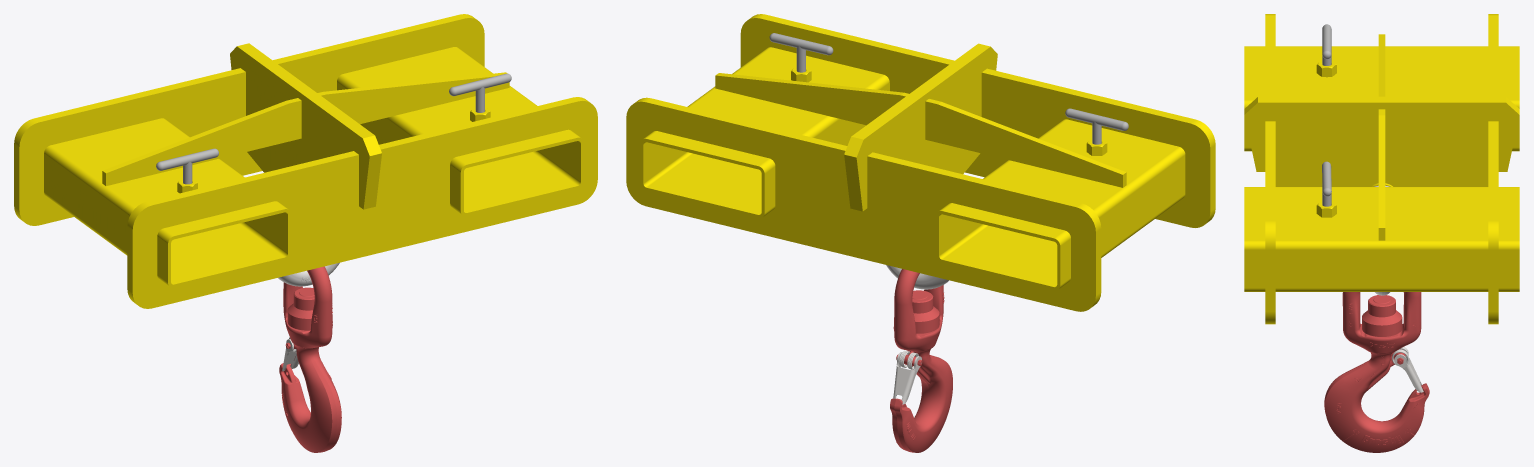
Rendered from dsp_mnt_10_t.glb.
3 renders of one model, left to right at view 1: azimuth 30°, elevation 25°; view 2: azimuth 150°, elevation 25°; view 3: azimuth 270°, elevation 25°, orthographic. The views are drawn at different scales.
Parts seen in each view (by area): view 1: Pieza15^Ensamblaje2-3, ptr 6x4 x 0.25-1, Pieza15^Ensamblaje2-2, ptr 6x4 x 0.25-2, Pieza16^Ensamblaje2-2, CROSBY_L-3322B_11T_1028645.sldasm-Part-1-1, Pieza17^Ensamblaje2-1, Pieza17^Ensamblaje2-2, CROSBY_L-3322B_11T_1028645.sldasm-Part-2-1, Pieza19^Ensamblaje2-2, Pieza19^Ensamblaje2-1; view 2: Pieza15^Ensamblaje2-2, ptr 6x4 x 0.25-1, Pieza15^Ensamblaje2-3, ptr 6x4 x 0.25-2, Pieza16^Ensamblaje2-2, Pieza17^Ensamblaje2-1, CROSBY_L-3322B_11T_1028645.sldasm-Part-1-1, Pieza17^Ensamblaje2-2, CROSBY_L-3322B_11T_1028645.sldasm-Part-2-1, Pieza19^Ensamblaje2-2, Pieza19^Ensamblaje2-1; view 3: ptr 6x4 x 0.25-2, Pieza16^Ensamblaje2-2, ptr 6x4 x 0.25-1, CROSBY_L-3322B_11T_1028645.sldasm-Part-1-1, Pieza15^Ensamblaje2-3, Pieza15^Ensamblaje2-2, CROSBY_L-3322B_11T_1028645.sldasm-Part-2-1, Pieza17^Ensamblaje2-2, Pieza17^Ensamblaje2-1, Pieza19^Ensamblaje2-2, Pieza19^Ensamblaje2-1.
Boxes of the visible parts, box(x1,y1,x2,y2) form: Pieza15^Ensamblaje2-3: box(127, 97, 597, 308); ptr 6x4 x 0.25-1: box(44, 118, 290, 287); Pieza15^Ensamblaje2-2: box(14, 14, 484, 225); ptr 6x4 x 0.25-2: box(337, 47, 583, 216); Pieza16^Ensamblaje2-2: box(230, 43, 381, 209); CROSBY_L-3322B_11T_1028645.sldasm-Part-1-1: box(279, 287, 341, 452); Pieza17^Ensamblaje2-1: box(102, 98, 301, 185); Pieza17^Ensamblaje2-2: box(317, 72, 509, 124); CROSBY_L-3322B_11T_1028645.sldasm-Part-2-1: box(283, 266, 332, 348); Pieza19^Ensamblaje2-2: box(449, 73, 511, 112); Pieza19^Ensamblaje2-1: box(156, 148, 218, 184); Pieza15^Ensamblaje2-2: box(626, 97, 1101, 311); ptr 6x4 x 0.25-1: box(936, 119, 1185, 290); Pieza15^Ensamblaje2-3: box(740, 14, 1215, 227); ptr 6x4 x 0.25-2: box(640, 47, 889, 218); Pieza16^Ensamblaje2-2: box(844, 43, 997, 211); Pieza17^Ensamblaje2-1: box(925, 99, 1126, 187); CROSBY_L-3322B_11T_1028645.sldasm-Part-1-1: box(890, 290, 952, 452); Pieza17^Ensamblaje2-2: box(715, 73, 908, 125); CROSBY_L-3322B_11T_1028645.sldasm-Part-2-1: box(893, 269, 944, 351); Pieza19^Ensamblaje2-2: box(769, 33, 833, 72); Pieza19^Ensamblaje2-1: box(1065, 108, 1128, 144); ptr 6x4 x 0.25-2: box(1244, 187, 1519, 291); Pieza16^Ensamblaje2-2: box(1244, 96, 1519, 186); ptr 6x4 x 0.25-1: box(1244, 46, 1519, 151); CROSBY_L-3322B_11T_1028645.sldasm-Part-1-1: box(1324, 295, 1429, 452); Pieza15^Ensamblaje2-3: box(1265, 14, 1275, 324); Pieza15^Ensamblaje2-2: box(1488, 14, 1498, 324); CROSBY_L-3322B_11T_1028645.sldasm-Part-2-1: box(1342, 292, 1421, 353); Pieza17^Ensamblaje2-2: box(1378, 109, 1385, 240); Pieza17^Ensamblaje2-1: box(1378, 34, 1385, 96); Pieza19^Ensamblaje2-2: box(1322, 161, 1331, 206); Pieza19^Ensamblaje2-1: box(1322, 24, 1331, 65).
Size of the model in its own units: 0.9596 by 0.7026 by 0.5.
